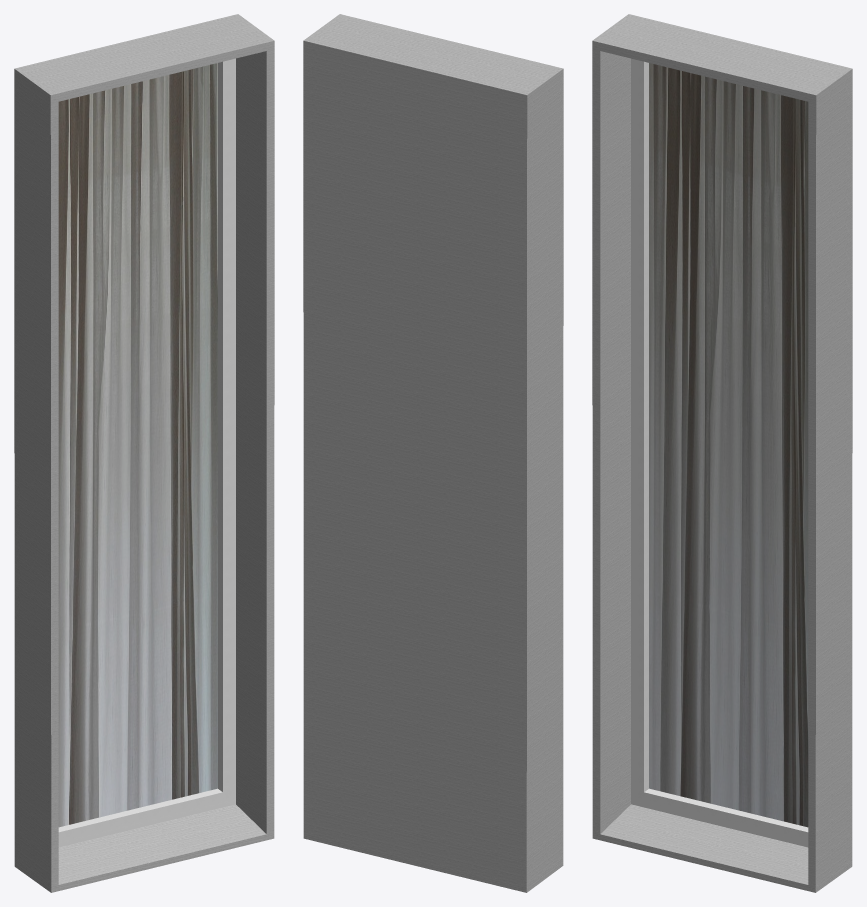
File: 1FensterBDoor.glb
3 views of the same model, side by side, from view 1: azimuth 30°, elevation 25°; view 2: azimuth 150°, elevation 25°; view 3: azimuth 330°, elevation 25° (orthographic).
Parts seen in each view (by area): view 1: Cube.005; view 2: Cube.005; view 3: Cube.005.
Part boxes in pixels (<box>): Cube.005: <box>14,14,274,892</box>; Cube.005: <box>303,14,563,892</box>; Cube.005: <box>592,14,852,892</box>.
Size of the model in its own units: 1.87 by 6.39 by 0.5292.
3 materials, 3 textured.
